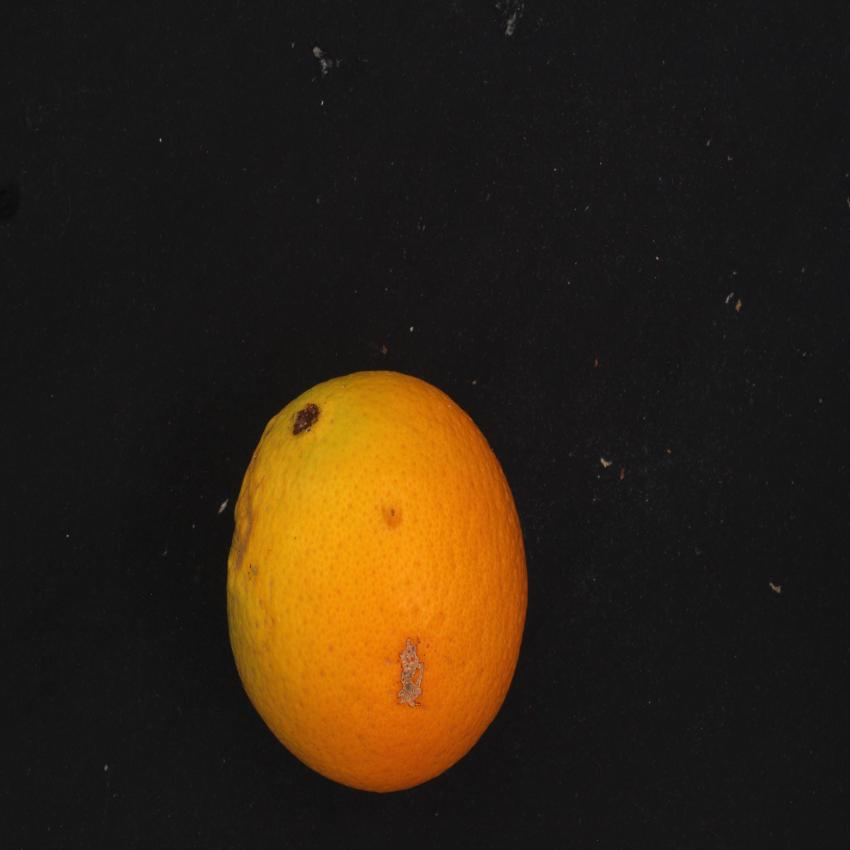Mal estado: (205, 354, 556, 806)
